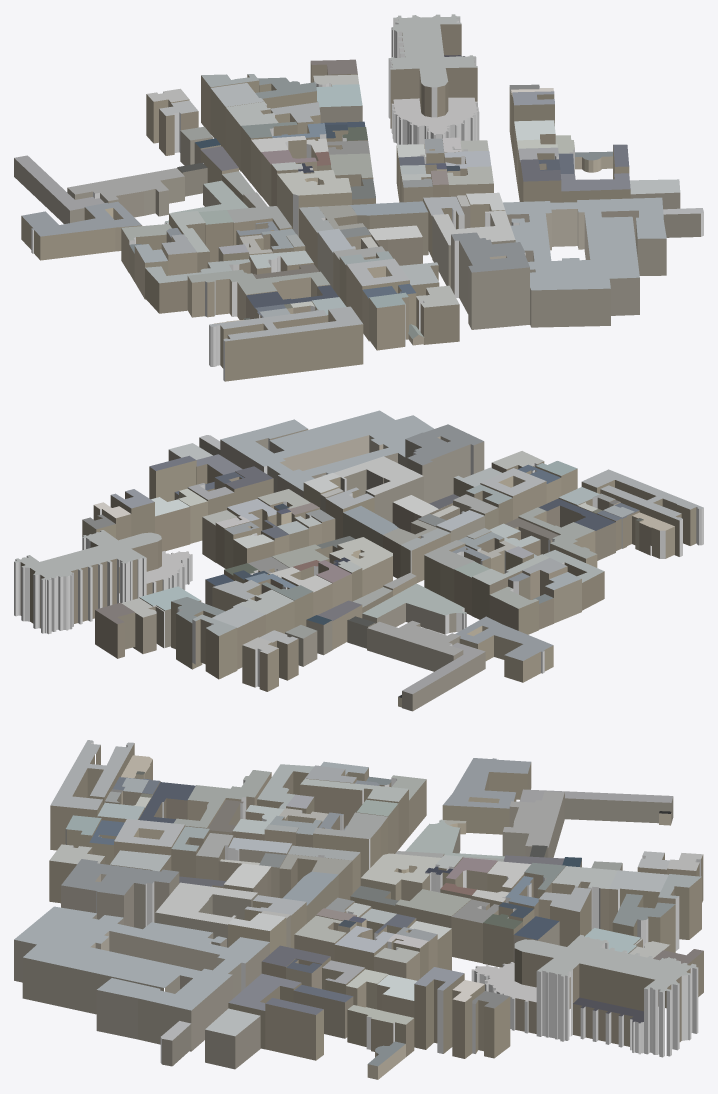
3 views of the same model, one above another, from view 1: azimuth 30°, elevation 25°; view 2: azimuth 150°, elevation 25°; view 3: azimuth 270°, elevation 25° (orthographic). The views are drawn at different scales.
Parts seen in each view (by area): view 1: tuile; view 2: tuile; view 3: tuile.
Boxes of the visible parts, bbox=[...] form: tuile: bbox=[14, 14, 703, 381]; tuile: bbox=[14, 410, 703, 711]; tuile: bbox=[14, 740, 703, 1079].
Size of the model in its own units: 276 by 33.29 by 276.
